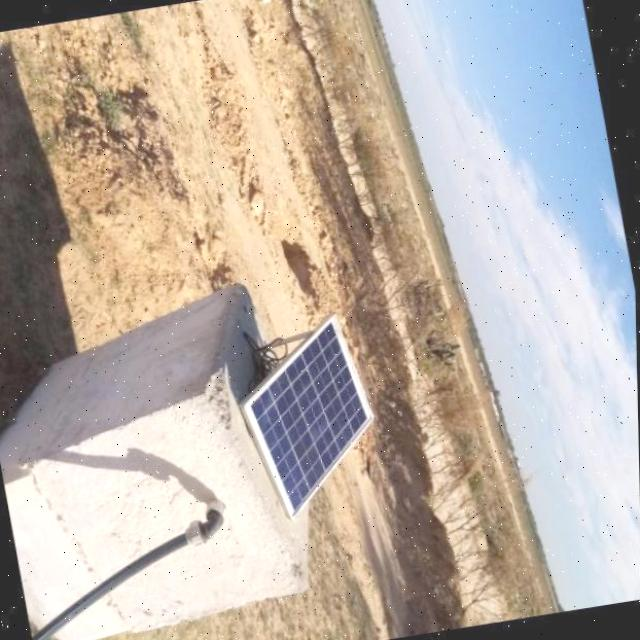Normal Solar Panel: (230, 311, 388, 523)
